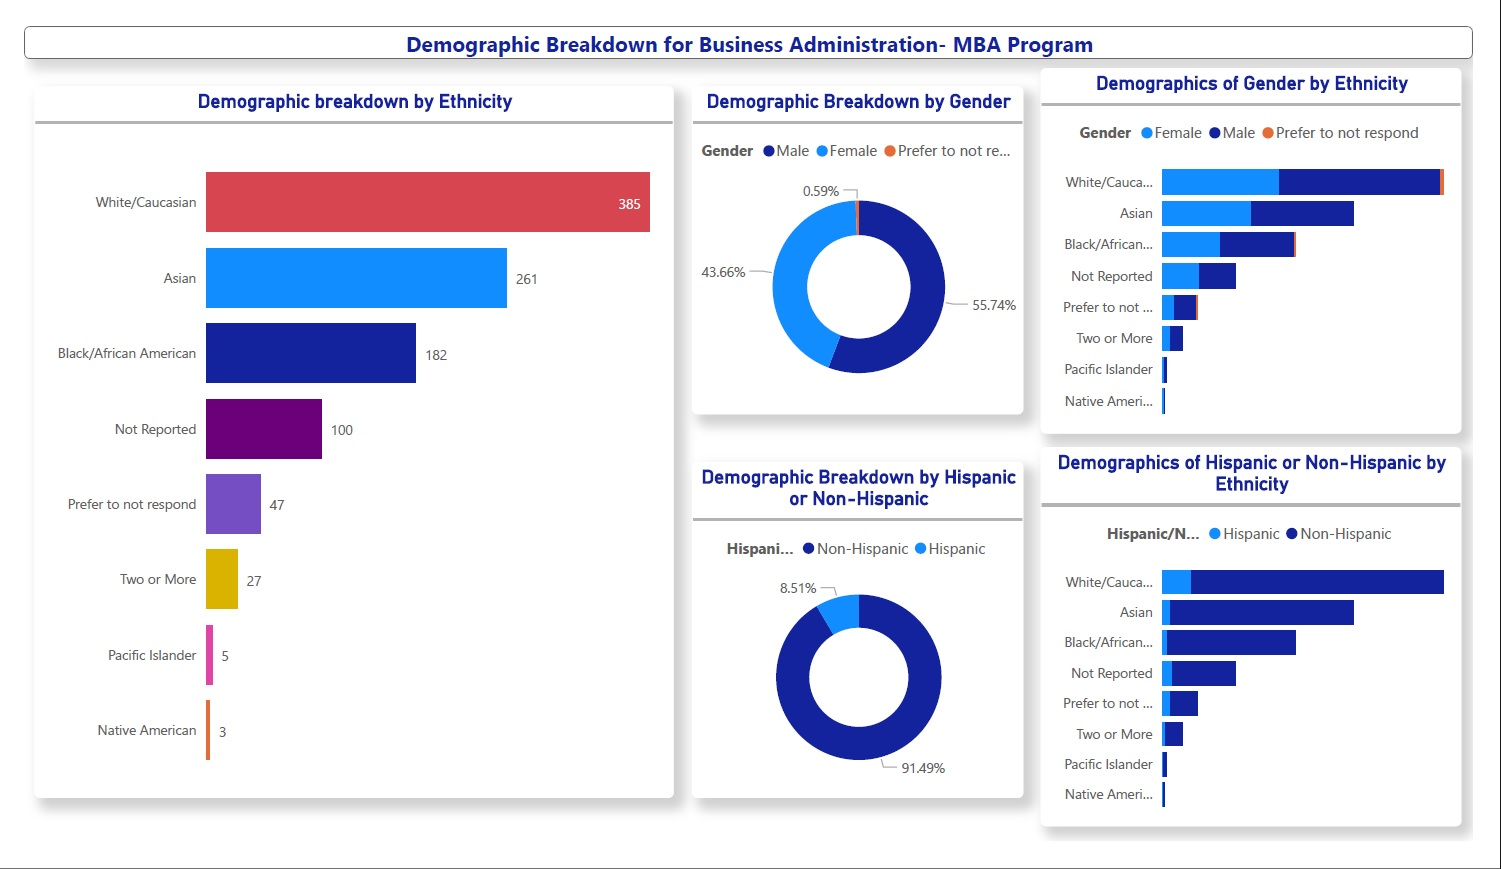

This screenshot's page, from the dashboard's own definition file:
{"tool":"powerbi","page":{"name":"Page 1","canvas":[1280,720],"ordinal":1},"visuals":[{"type":"barChart","title":"Demographic breakdown by Ethnicity","fields":{"Category":["Final_Ethenicity.IPEDS_Ethnicities"],"Y":["CountNonNull(Final_Ethenicity.IPEDS_Ethnicities)"]},"box":[8.6,52.7,565.7,629],"z":0},{"type":"textbox","title":"Demographic Breakdown for Business Administration- MBA Program ","box":[0,0,1280,28.8],"z":1000},{"type":"donutChart","title":"Demographic Breakdown by Hispanic or Non-Hispanic","fields":{"Category":["His_final.IPEDS_Hispanic"],"Y":["CountNonNull(His_final.IPEDS_Hispanic)"]},"box":[589.7,385.4,293.4,296.3],"z":2000},{"type":"donutChart","title":"Demographic Breakdown by Gender","fields":{"Category":["Sex_final.Sex"],"Y":["CountNonNull(Sex_final.Sex)"]},"box":[589.7,52.7,293.4,290.5],"z":3000},{"type":"barChart","title":"Demographics of Gender by Ethnicity","fields":{"Category":["Final_Ethenicity.IPEDS_Ethnicities"],"Y":["CountNonNull(His_final.IPEDS_Hispanic)"],"Series":["Sex_final.Sex"]},"box":[898.4,37.4,372,322.2],"z":4000},{"type":"barChart","title":"Demographics of Hispanic or Non-Hispanic by Ethnicity ","fields":{"Category":["Final_Ethenicity.IPEDS_Ethnicities"],"Y":["CountNonNull(His_final.IPEDS_Hispanic)"],"Series":["His_final.IPEDS_Hispanic"]},"box":[898.4,372,372,334.6],"z":5000}]}

Visuals, with their boxes in screenshot pixels (x1, y1, x2, y2), scaled from the page's 1280x720 canvas onto the 1501x869 screenshot:
"Demographic breakdown by Ethnicity" barChart: select_region(10, 64, 673, 823)
"Demographic Breakdown for Business Administration- MBA Program " textbox: select_region(0, 0, 1500, 35)
"Demographic Breakdown by Hispanic or Non-Hispanic" donutChart: select_region(692, 465, 1036, 823)
"Demographic Breakdown by Gender" donutChart: select_region(692, 64, 1036, 414)
"Demographics of Gender by Ethnicity" barChart: select_region(1054, 45, 1490, 434)
"Demographics of Hispanic or Non-Hispanic by Ethnicity " barChart: select_region(1054, 449, 1490, 853)
